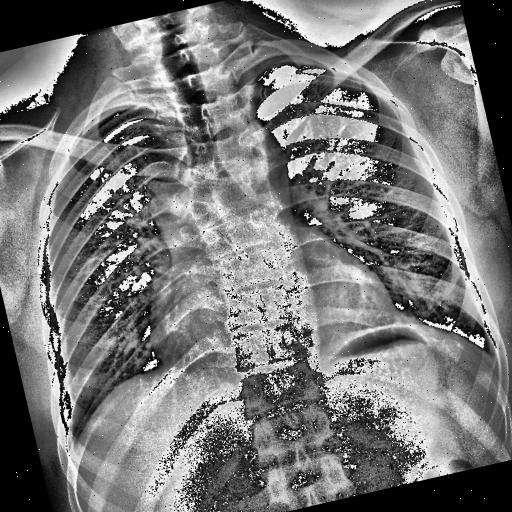11- Pleural thickening: (28, 296, 103, 466), (223, 30, 338, 94), (59, 85, 158, 138)
3- Cardiomegaly: (88, 186, 417, 422)
9- Other lesion: (108, 78, 323, 302), (84, 79, 196, 222), (272, 34, 391, 106)
